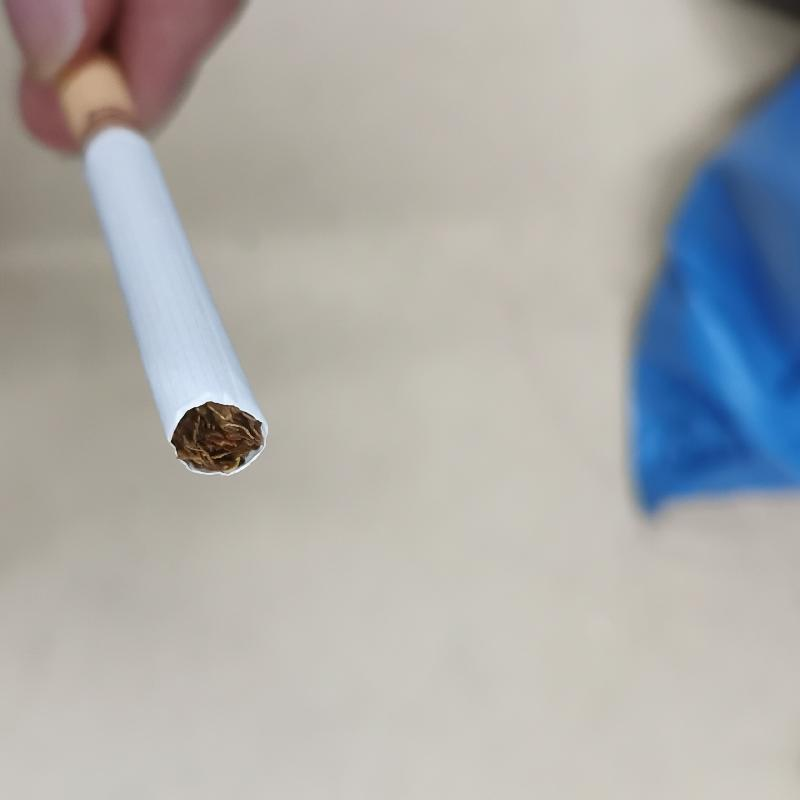cigarette: (46, 55, 270, 475)
